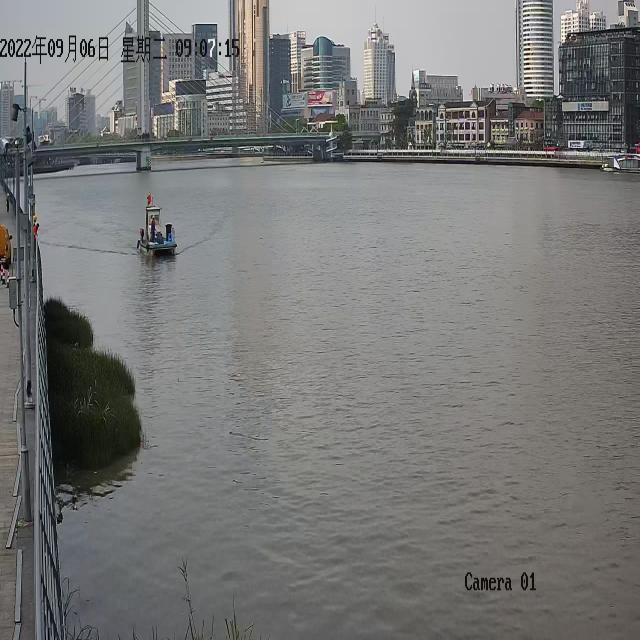ship: (136, 188, 176, 255)
